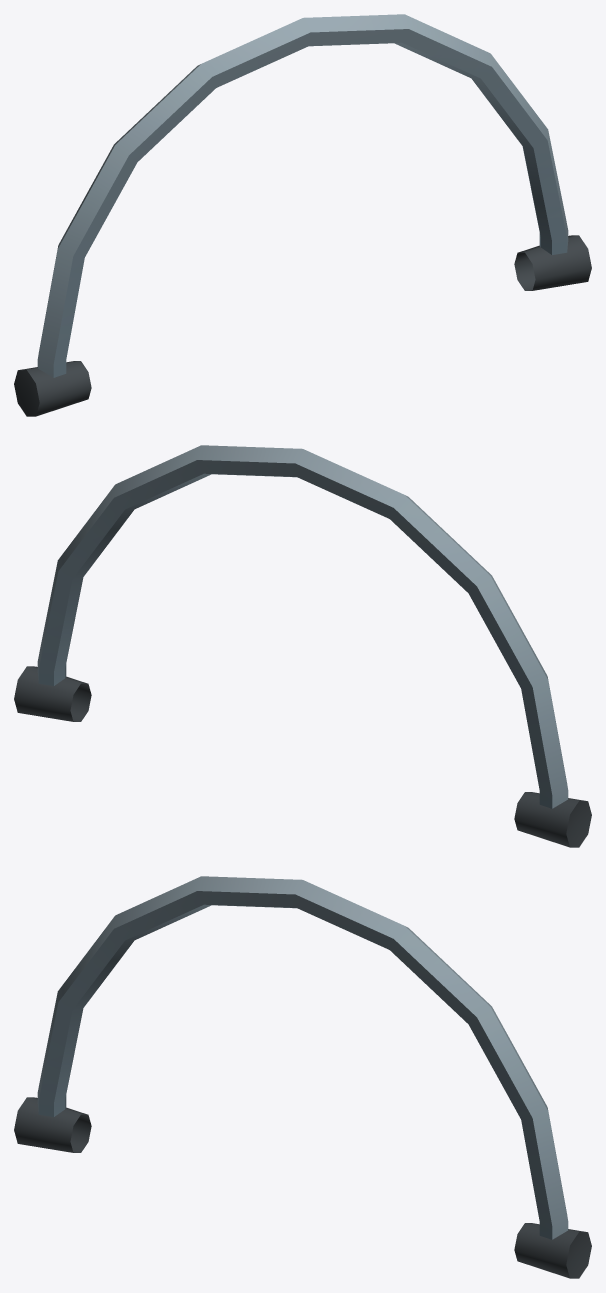
File: bucket_metal_handle.obj
3 renders of one model, top to bottom at view 1: azimuth 30°, elevation 25°; view 2: azimuth 150°, elevation 25°; view 3: azimuth 330°, elevation 25°, orthographic.
Parts seen in each view (by area): view 1: bucket_metal_handle; view 2: bucket_metal_handle; view 3: bucket_metal_handle.
Boxes of the visible parts, x1,y1,x2,y2 form: bucket_metal_handle: (14,14,591,416); bucket_metal_handle: (14,445,591,847); bucket_metal_handle: (14,876,591,1278).
Bounding box in the file's own units: 0.912 × 0.5232 × 0.0737.
Materials: 1 (1 with a texture image).
